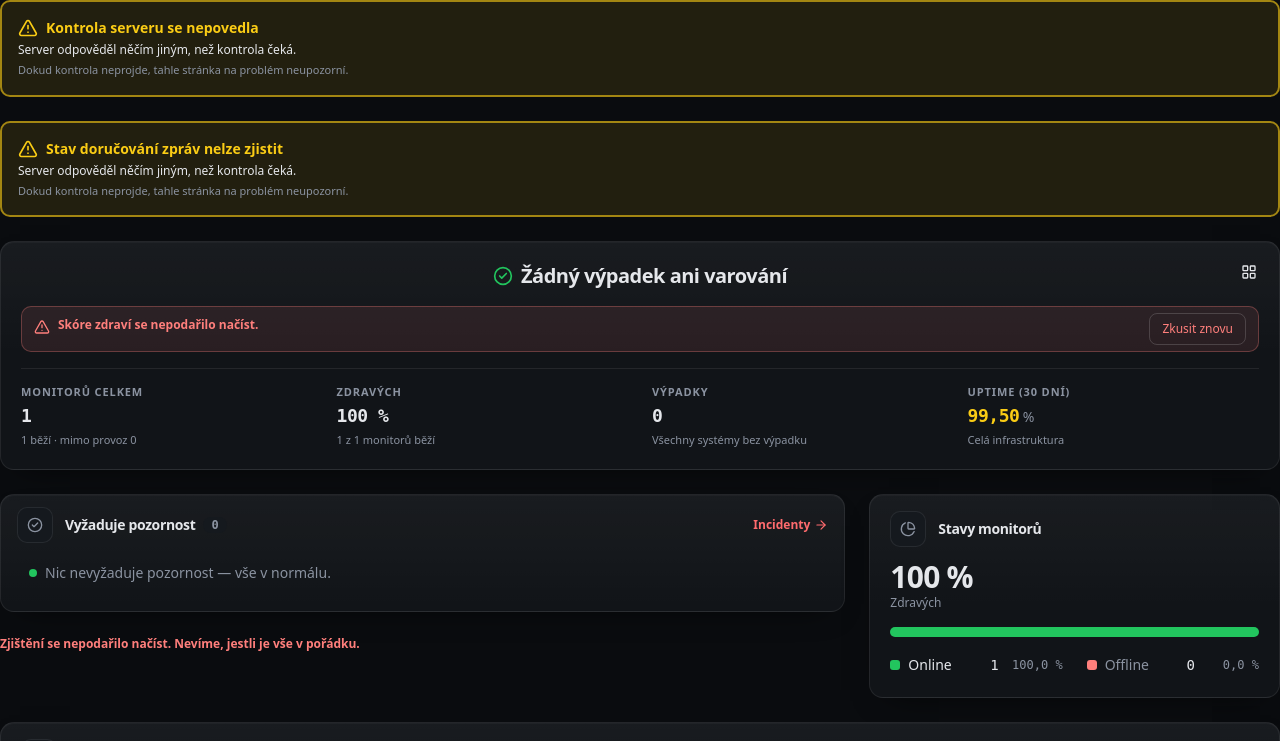
Test: Dashboard: zdraví sítě ze sdíleného appApi.getHealth() › selhaná první odpověď je chyba s opakováním, ne prstenec s pomlčkou
Expected: the picture "Zdraví sítě" is not shown
Click the button "Zkusit znovu". click: coordinates (1198, 329)
box: x1=1149 y1=313 x2=1246 y2=345
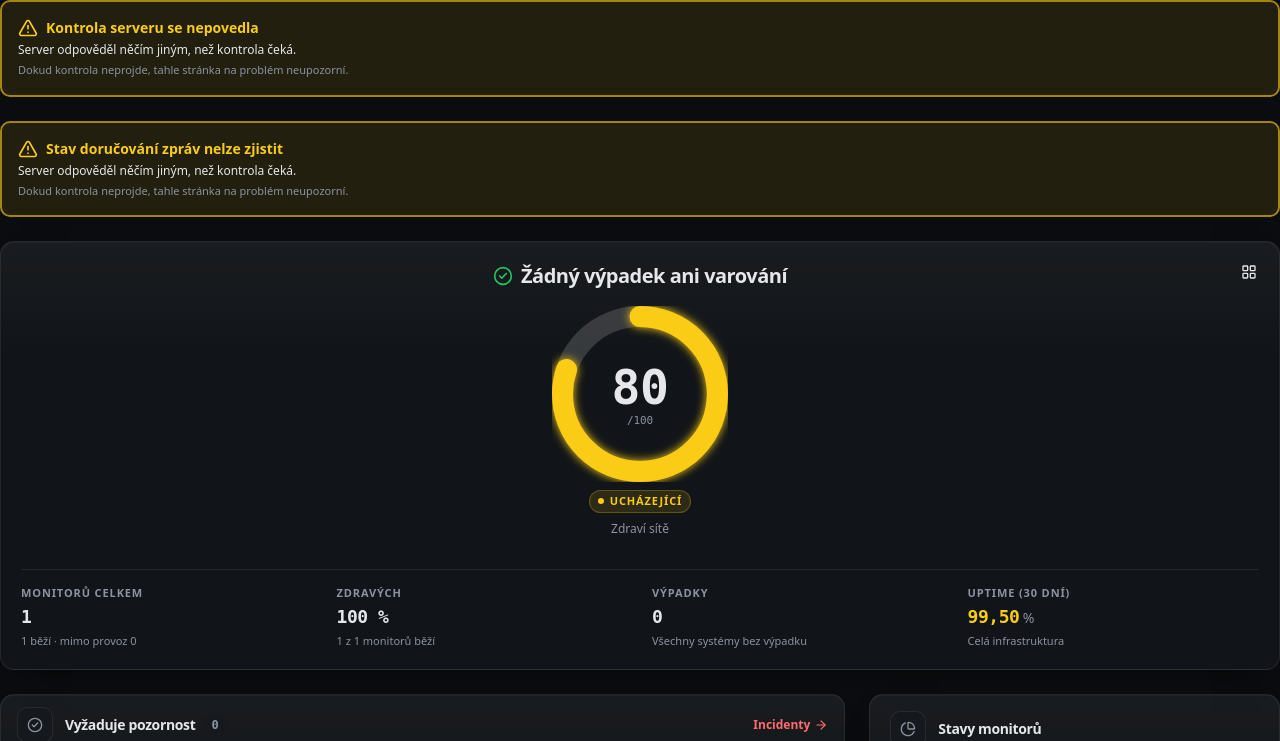
Result: the picture named "Zdraví sítě: 80 ze 100, Ucházející" is shown at x1=552 y1=306 x2=728 y2=482
